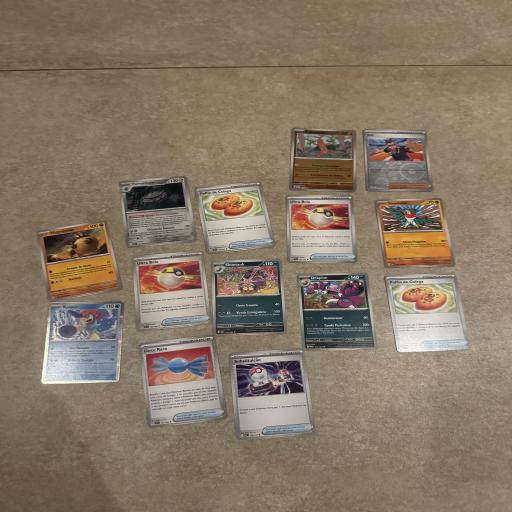card: (138, 334, 228, 429), (385, 264, 471, 361), (229, 347, 316, 442), (36, 219, 123, 302), (41, 300, 124, 386), (194, 175, 276, 260), (298, 269, 378, 355), (130, 250, 212, 331), (212, 259, 288, 336), (375, 198, 456, 269), (119, 175, 197, 248), (286, 195, 358, 263), (361, 129, 435, 192), (288, 127, 358, 192)
